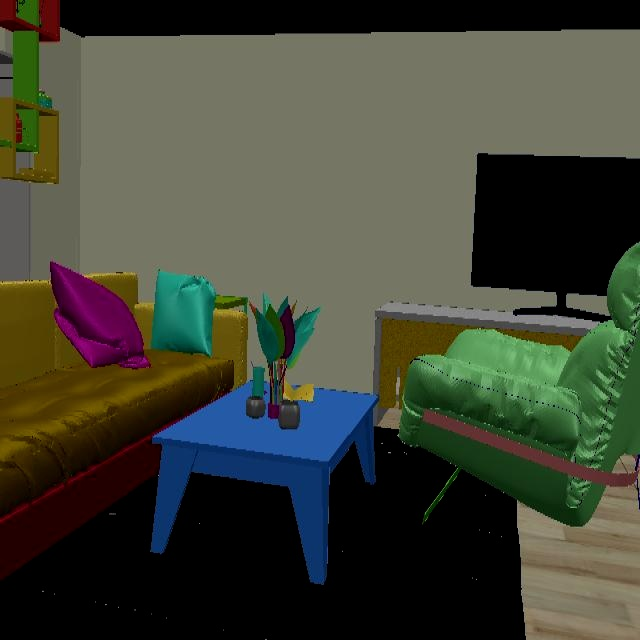monitor: (470, 153, 640, 299)
pillow: (50, 261, 151, 371), (150, 269, 215, 357)
sofa: (397, 241, 640, 529), (0, 272, 249, 476)
table: (152, 385, 377, 585)
